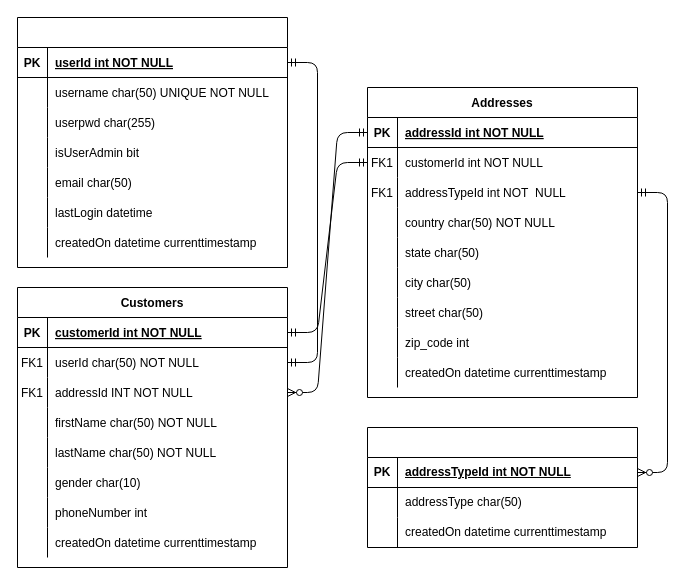
This 694x585 diagram has some shape labels left out. Each missing label, with the box of its shape:
AddressTypes: (366, 426, 638, 548)
Users: (16, 16, 288, 268)
